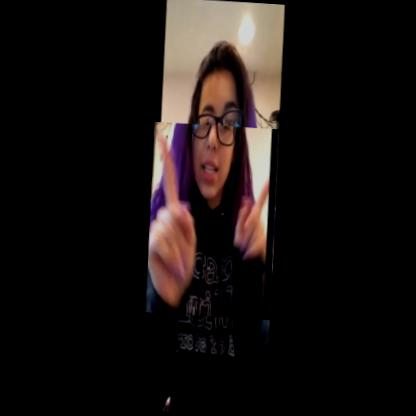NiceToMeetYou: (141, 121, 281, 321)
